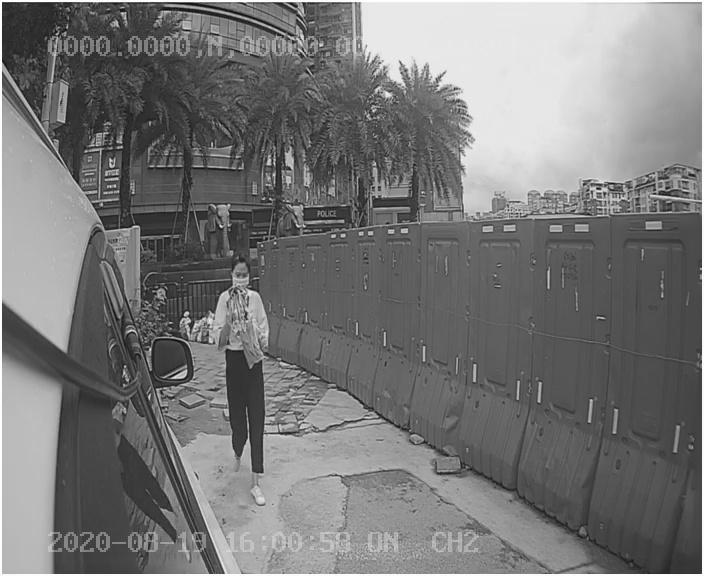person: (211, 254, 292, 508)
